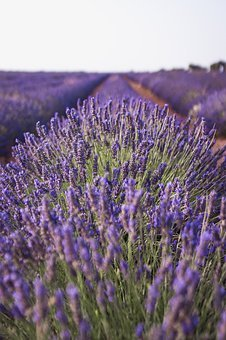flower: (4, 75, 223, 339)
